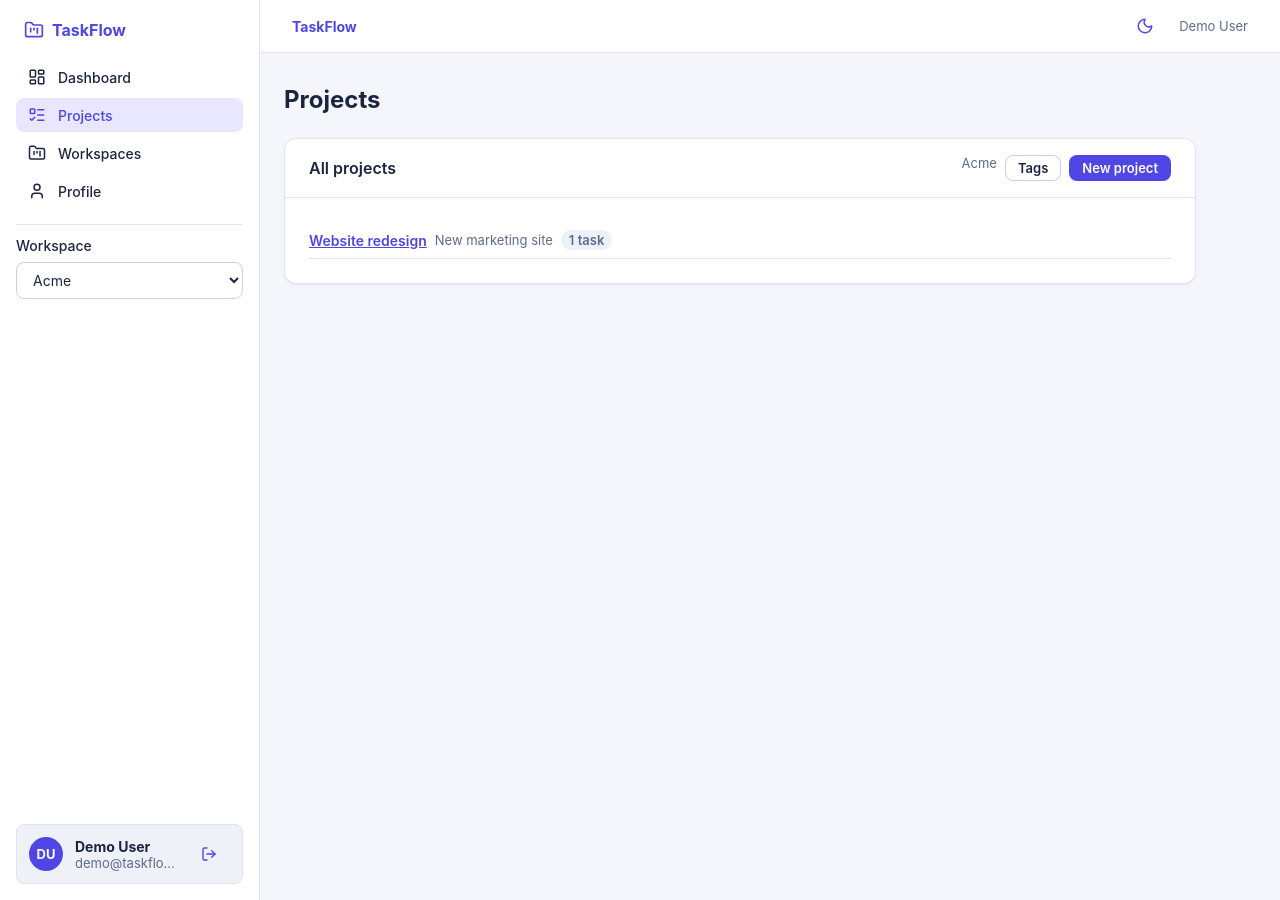
Scenario: create-pane — "Add task opens the creation drawer" (@w1) › opens a labelled dialog with the task form fields and keeps the page behind
Click the link "Website redesign".
click(368, 240)  # box left=309, top=232, right=427, bottom=248
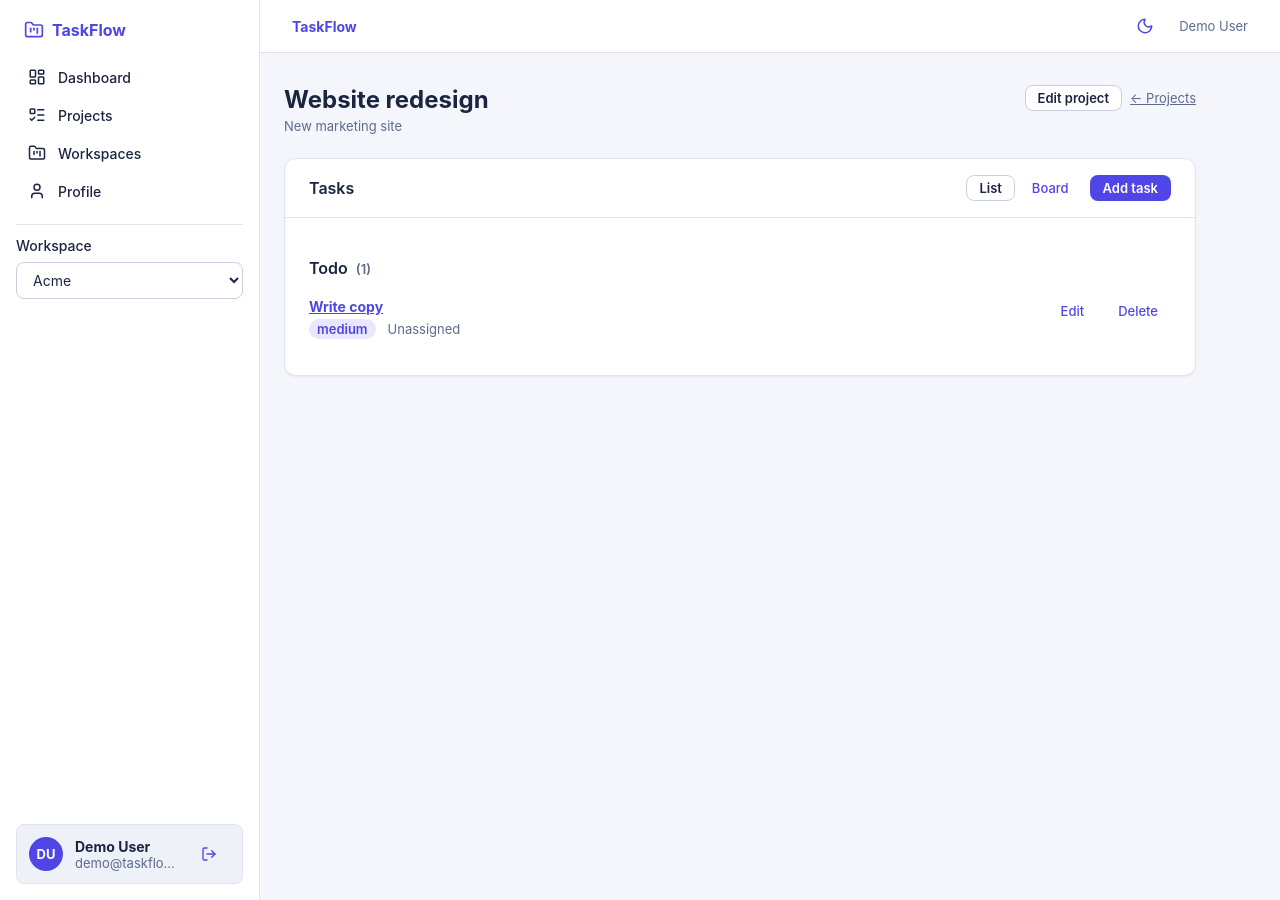
Result: the link "Write copy" is shown at left=309, top=298, right=383, bottom=315
Click the button "Add task".
click(1130, 188)  # box left=1090, top=175, right=1171, bottom=201
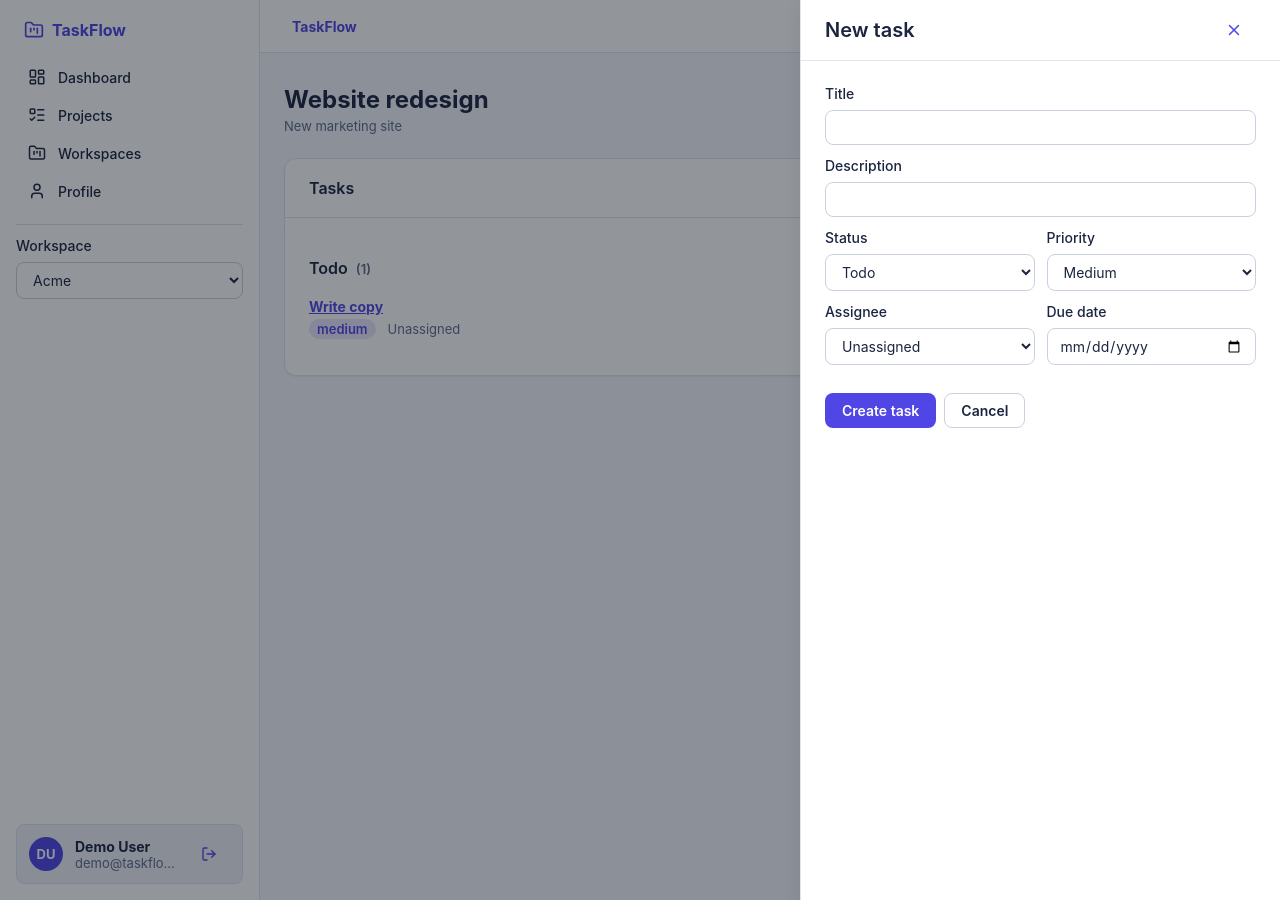
Result: the dialog shows "New task" at left=825, top=18, right=915, bottom=42
Result: the field labelled "Title" is shown at left=825, top=110, right=1256, bottom=145
Result: the dropdown labelled "Status" is shown at left=825, top=254, right=1034, bottom=291
